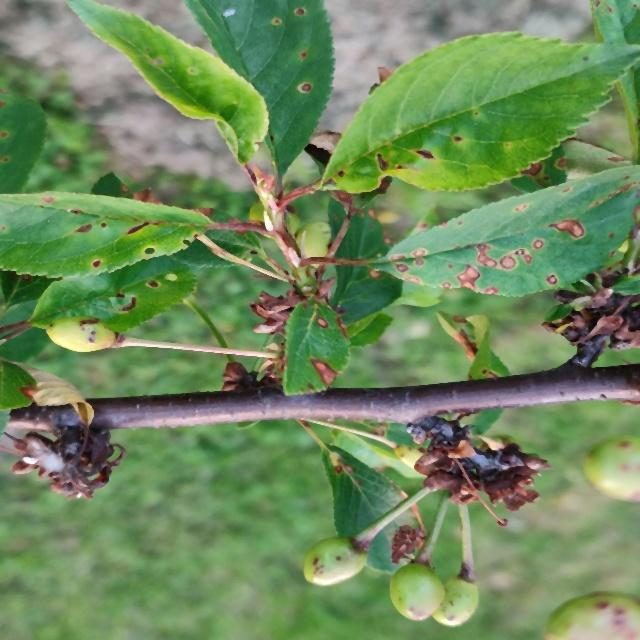shot_hole: (316, 28, 634, 206), (369, 145, 640, 306), (0, 184, 229, 282), (240, 284, 362, 440)
